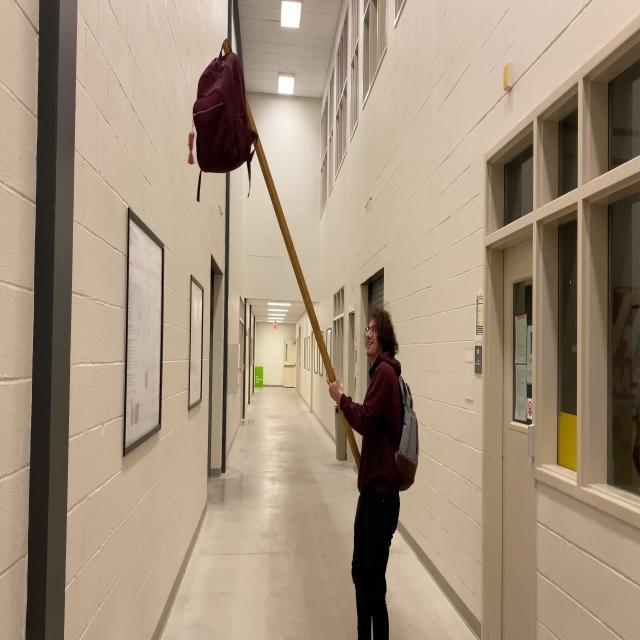Backpacks: (192, 50, 252, 177)
